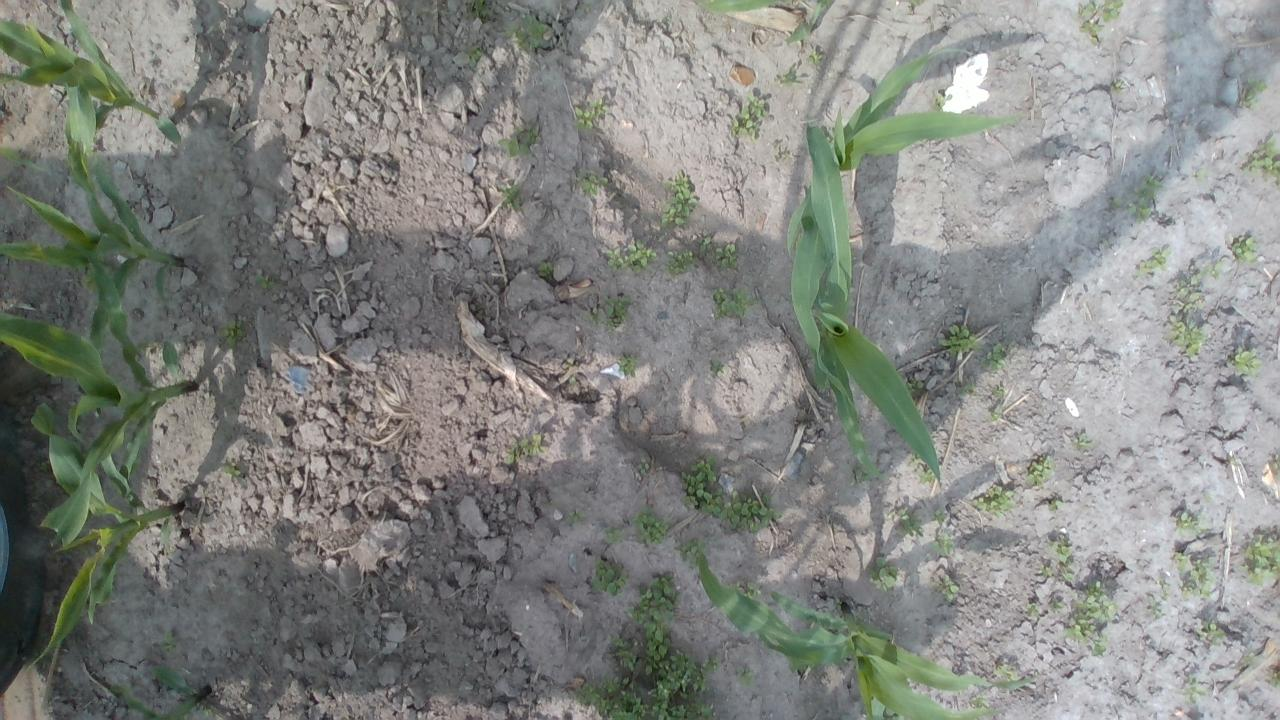Maize: (786, 46, 974, 408), (691, 555, 1036, 720), (0, 258, 199, 543), (801, 118, 942, 480), (0, 86, 183, 362), (27, 399, 184, 677), (0, 0, 183, 196), (698, 0, 832, 48), (111, 660, 210, 720)
Weeds: (679, 454, 786, 532), (644, 648, 724, 720), (625, 573, 682, 658), (1063, 580, 1118, 641), (576, 673, 644, 720), (1236, 532, 1280, 586), (1171, 264, 1219, 312), (658, 170, 698, 225), (728, 90, 770, 142), (1164, 316, 1209, 358), (1174, 552, 1214, 598), (628, 504, 672, 544), (506, 12, 550, 52), (1128, 177, 1164, 225), (496, 122, 540, 158), (712, 286, 758, 320), (1241, 138, 1280, 178), (589, 558, 629, 596), (972, 485, 1018, 518), (936, 321, 980, 353), (1046, 536, 1076, 582), (572, 96, 611, 129), (604, 630, 634, 671), (602, 294, 634, 332), (866, 554, 898, 592), (882, 508, 924, 536), (218, 318, 249, 354), (1134, 248, 1166, 281), (624, 239, 656, 272), (1230, 346, 1264, 377), (1027, 456, 1058, 488), (575, 168, 610, 195), (981, 342, 1008, 376), (677, 538, 707, 568), (1230, 236, 1260, 265), (666, 248, 699, 274), (1173, 510, 1208, 534), (1240, 80, 1268, 109), (1196, 622, 1226, 648), (1077, 1, 1102, 32), (848, 464, 882, 486), (711, 242, 737, 268), (498, 180, 522, 208), (156, 624, 178, 654), (1180, 678, 1204, 704), (520, 432, 544, 456), (464, 0, 494, 19), (942, 574, 962, 602), (774, 62, 797, 84), (992, 664, 1020, 682), (220, 462, 245, 482), (1071, 432, 1098, 450), (1100, 0, 1122, 22), (618, 354, 640, 376), (605, 246, 623, 270), (464, 44, 485, 64), (934, 534, 954, 554), (1156, 576, 1172, 600), (604, 526, 626, 543), (1147, 598, 1164, 620), (253, 272, 273, 290), (534, 260, 556, 276), (710, 360, 730, 377), (697, 235, 712, 257), (133, 339, 147, 362), (744, 582, 761, 600), (928, 93, 944, 112), (907, 377, 924, 394), (971, 694, 989, 710), (1089, 641, 1107, 657), (736, 672, 754, 688), (918, 468, 938, 482), (566, 510, 586, 524), (806, 49, 822, 66), (1026, 601, 1042, 618), (200, 704, 217, 720), (1039, 564, 1055, 580), (1267, 669, 1280, 688), (931, 510, 946, 526), (1244, 653, 1258, 670), (504, 446, 517, 464), (906, 454, 923, 467), (1269, 453, 1280, 472), (1048, 498, 1062, 512), (959, 384, 976, 395), (86, 148, 100, 161), (1109, 195, 1122, 209), (730, 580, 744, 592), (992, 385, 1004, 398), (1050, 599, 1064, 610), (830, 596, 841, 610), (588, 309, 600, 321), (637, 462, 649, 472), (990, 409, 1000, 421), (1110, 82, 1122, 92), (907, 0, 923, 5), (1090, 36, 1098, 45)
